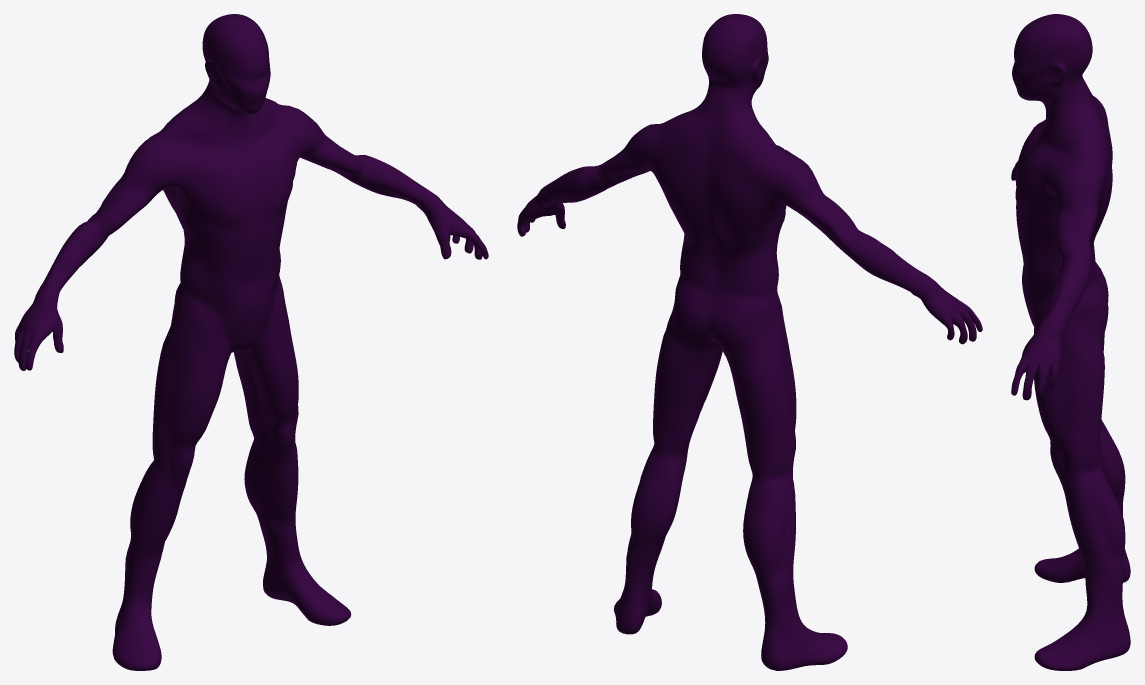
File: Enemy.fbx
3 views of the same model, side by side, from view 1: azimuth 30°, elevation 25°; view 2: azimuth 150°, elevation 25°; view 3: azimuth 270°, elevation 25° (orthographic). The views are drawn at different scales.
Visible parts, largest first — view 1: lowman_shoes; view 2: lowman_shoes; view 3: lowman_shoes.
Part boxes in pixels (left/top/right/bottom): lowman_shoes: left=14, top=14, right=488, bottom=670; lowman_shoes: left=517, top=14, right=982, bottom=670; lowman_shoes: left=1011, top=14, right=1130, bottom=670.
Bounding box in the file's own units: 462 × 598 × 107.
